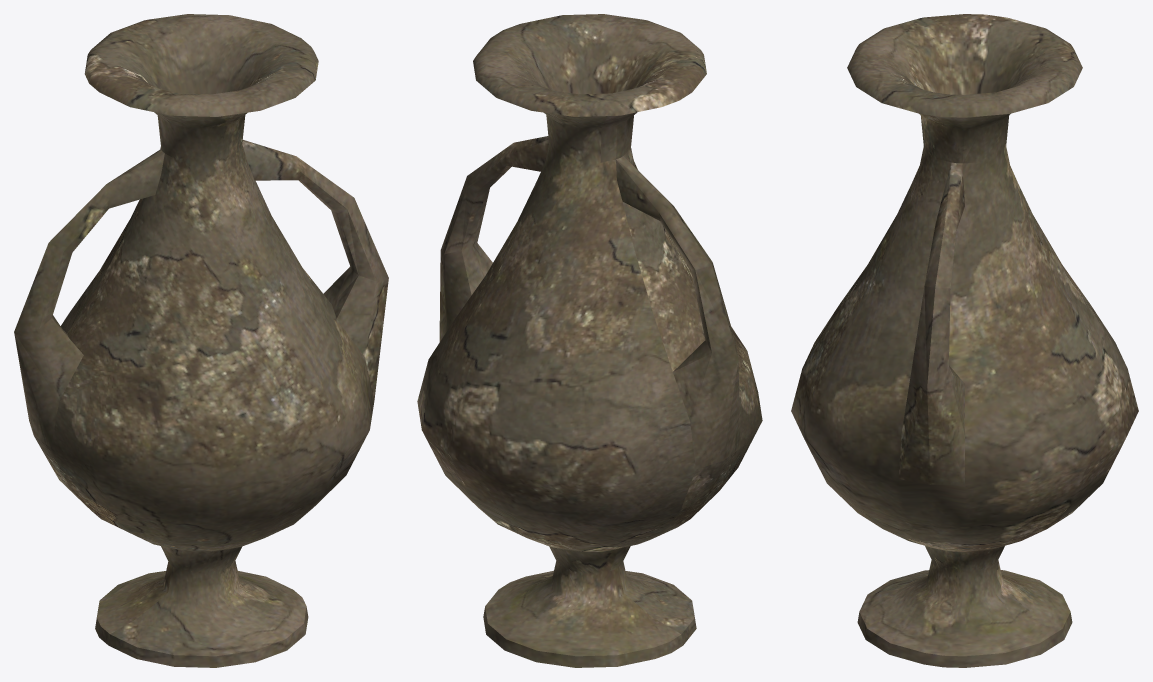
The model's file is amphora.fbx.
The picture shows the model from 3 angles, left to right: view 1: azimuth 30°, elevation 25°; view 2: azimuth 150°, elevation 25°; view 3: azimuth 270°, elevation 25°; orthographic projection.
Parts seen in each view (by area): view 1: Mesh Object; view 2: Mesh Object; view 3: Mesh Object.
Boxes of the visible parts, left/top/right/bottom form: Mesh Object: left=14, top=14, right=388, bottom=667; Mesh Object: left=417, top=14, right=762, bottom=667; Mesh Object: left=791, top=14, right=1138, bottom=667.
Size of the model in its own units: 0.4938 by 0.7916 by 0.4427.
